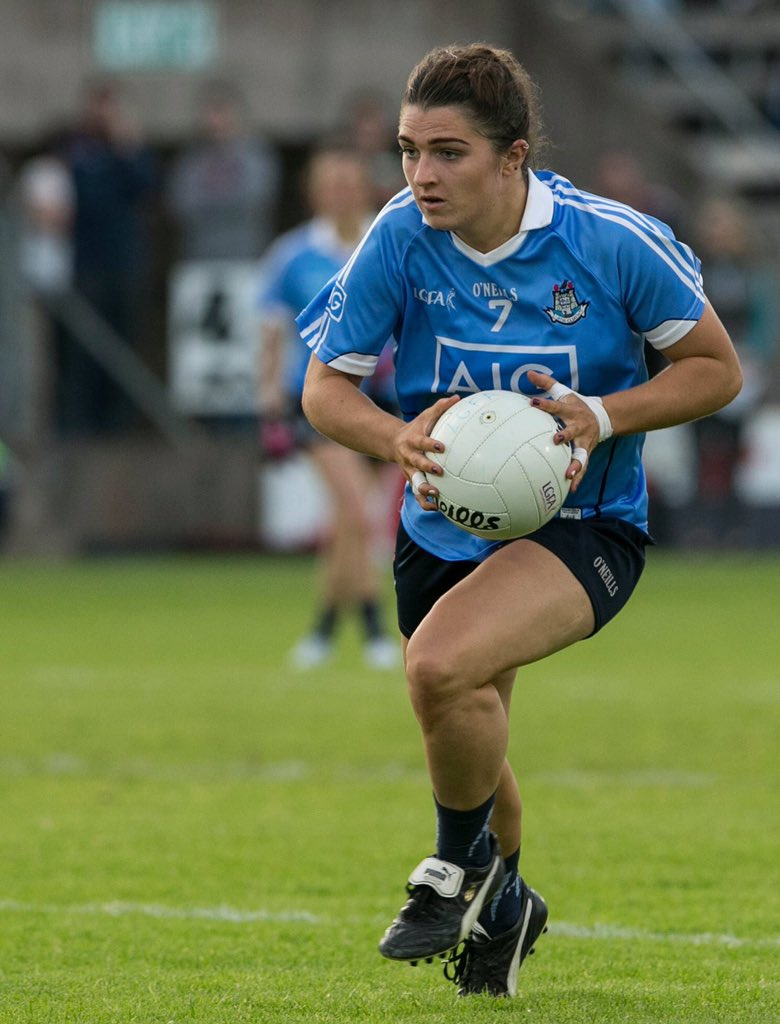ball: (418, 387, 567, 539)
player: (359, 67, 706, 935)
